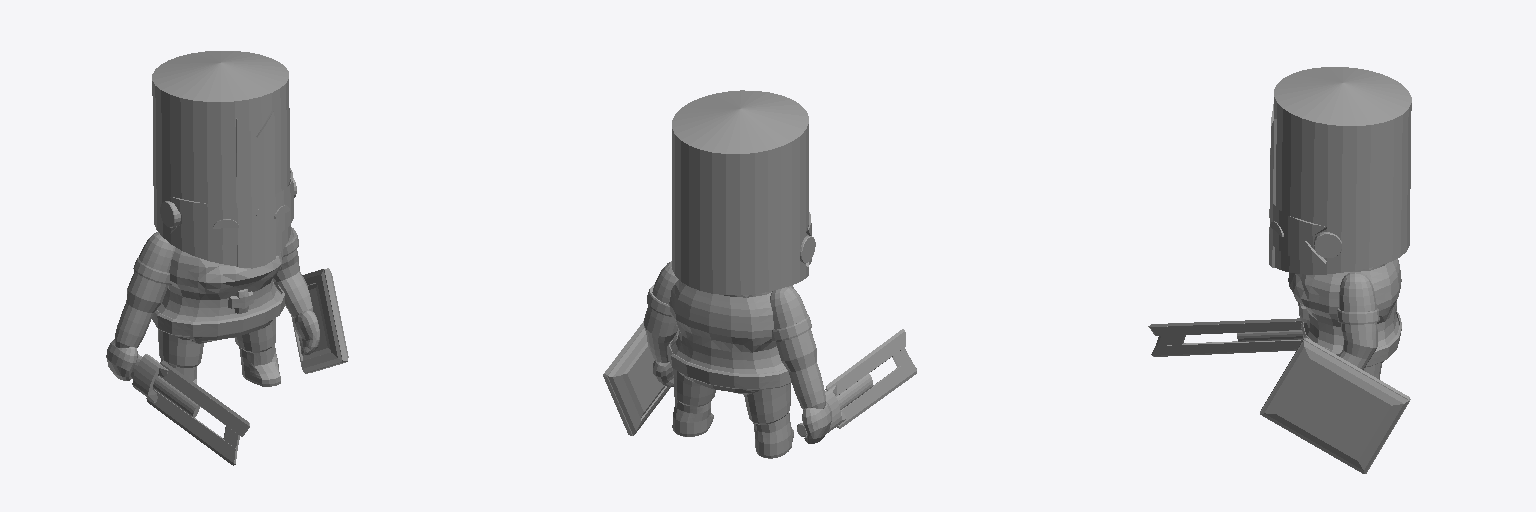
File: fire.obj
The picture shows the model from 3 angles: view 1: azimuth 30°, elevation 25°; view 2: azimuth 150°, elevation 25°; view 3: azimuth 270°, elevation 25°; orthographic projection.
Parts seen in each view (by area): view 1: KNIGHT_BODY_CENTRE_CHEST_HEAD_HEAD1_Cylinder5_Cylinder7; view 2: KNIGHT_BODY_CENTRE_CHEST_HEAD_HEAD1_Cylinder5_Cylinder7; view 3: KNIGHT_BODY_CENTRE_CHEST_HEAD_HEAD1_Cylinder5_Cylinder7.
Part boxes in pixels (bbox=[...]): KNIGHT_BODY_CENTRE_CHEST_HEAD_HEAD1_Cylinder5_Cylinder7: bbox=[106, 51, 348, 465]; KNIGHT_BODY_CENTRE_CHEST_HEAD_HEAD1_Cylinder5_Cylinder7: bbox=[603, 90, 916, 458]; KNIGHT_BODY_CENTRE_CHEST_HEAD_HEAD1_Cylinder5_Cylinder7: bbox=[1148, 67, 1411, 473].
Size of the model in its own units: 1.4 by 2.25 by 1.56.